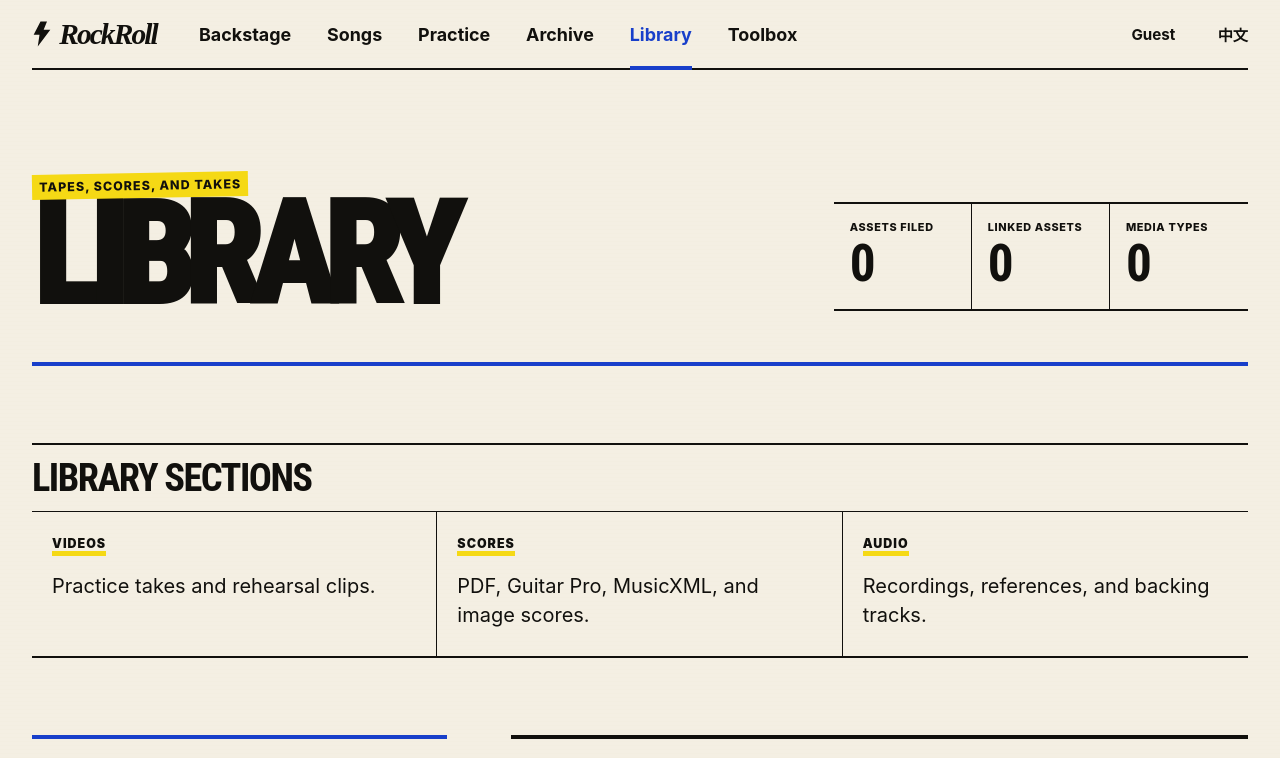
Test case: App › opens the local PDF toolbox from the primary navigation
The width and height of the screenshot is (1280, 758).
Click the link "Toolbox": (762, 34) [728, 0, 797, 68]
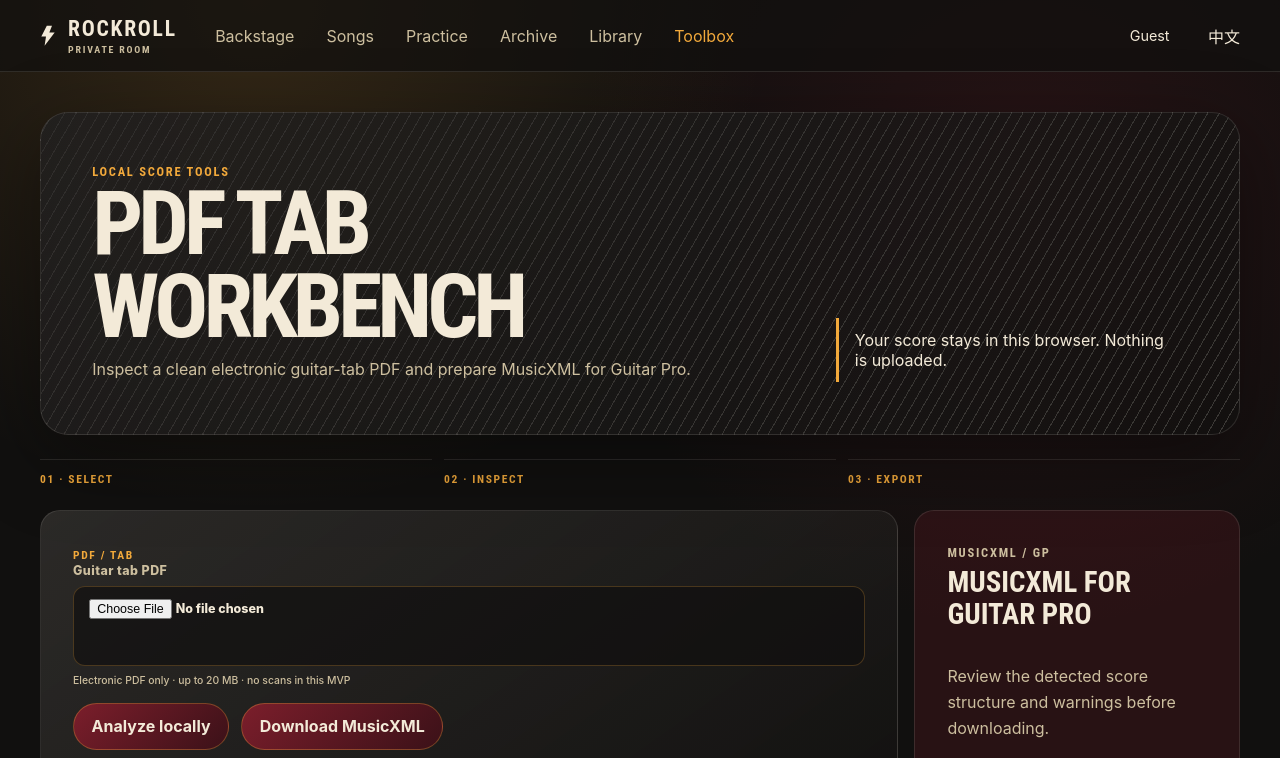
Expected: the heading "PDF Tab Workbench" is shown, [92, 183, 545, 348]
Expected: the text "Your score stays in this browser. Nothing is uploaded." is shown, [836, 318, 1188, 382]
